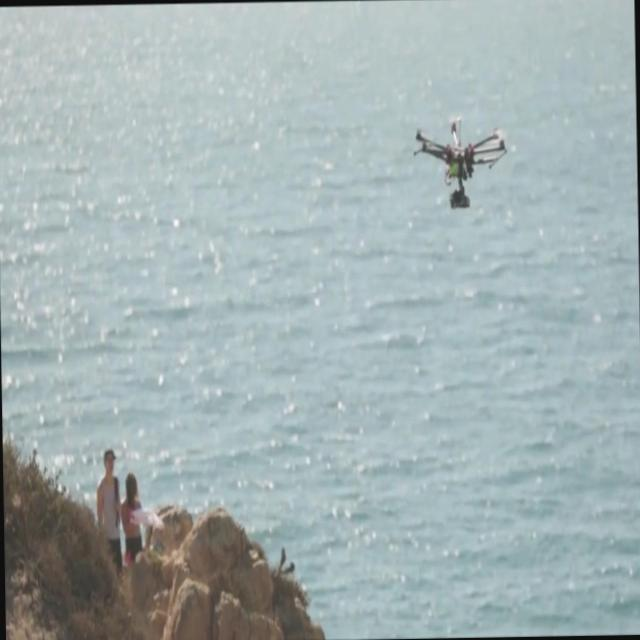drone: (411, 114, 508, 213)
